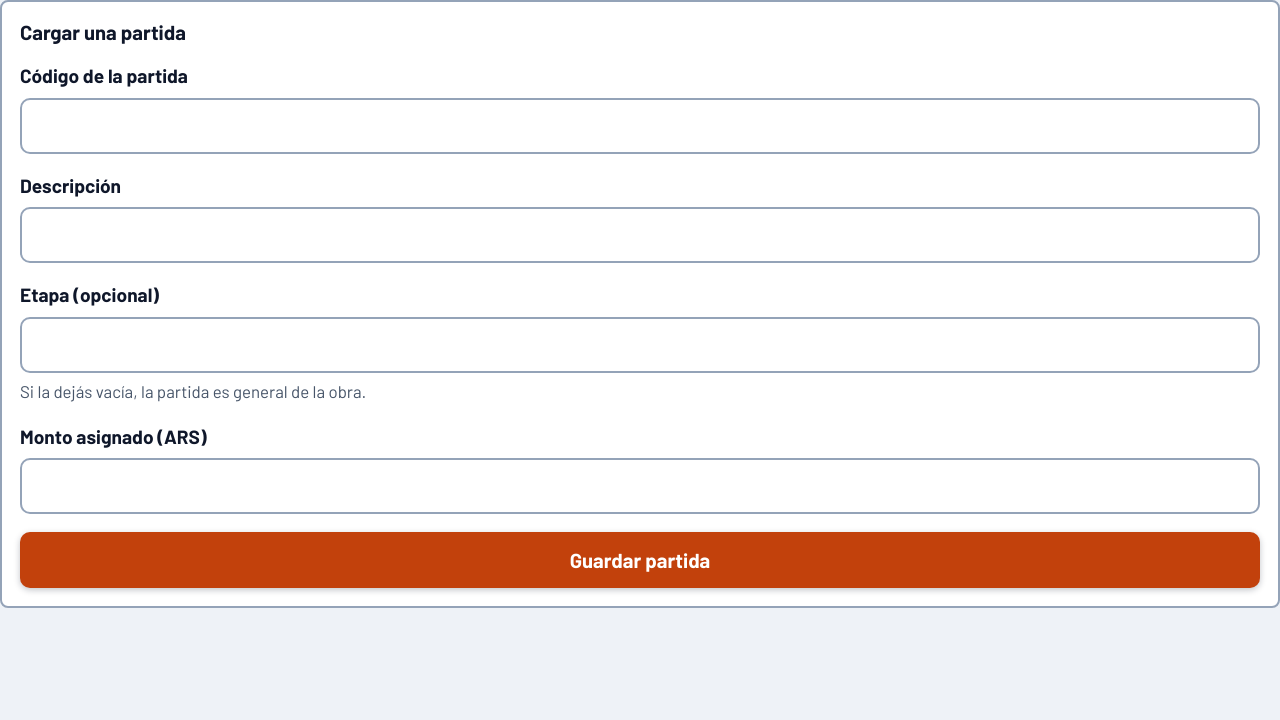
Test: FormularioNuevaPartida › no envía nada y muestra los errores si faltan datos o el monto es inválido
The width and height of the screenshot is (1280, 720).
Type "-5" into the field labelled "Monto asignado (ARS)" at [640, 486], box [20,458,1260,514]
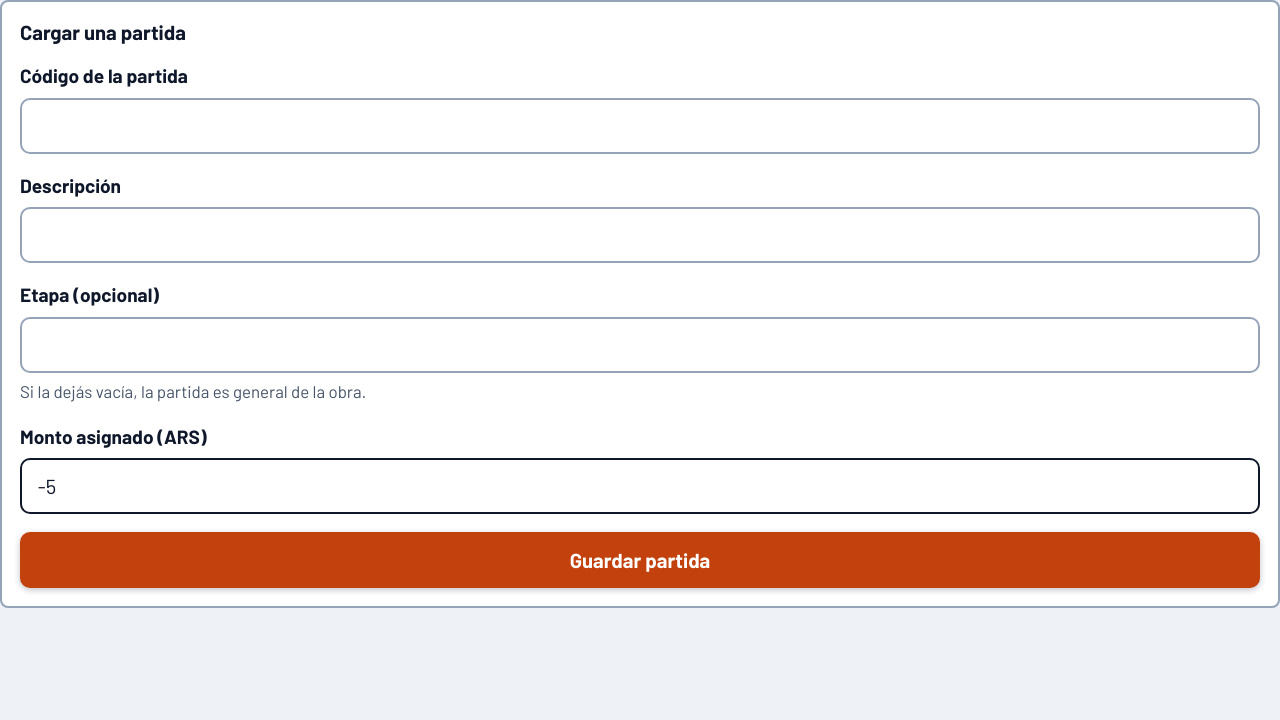
Click the button "Guardar partida" at [640, 560], box [20,532,1260,588]
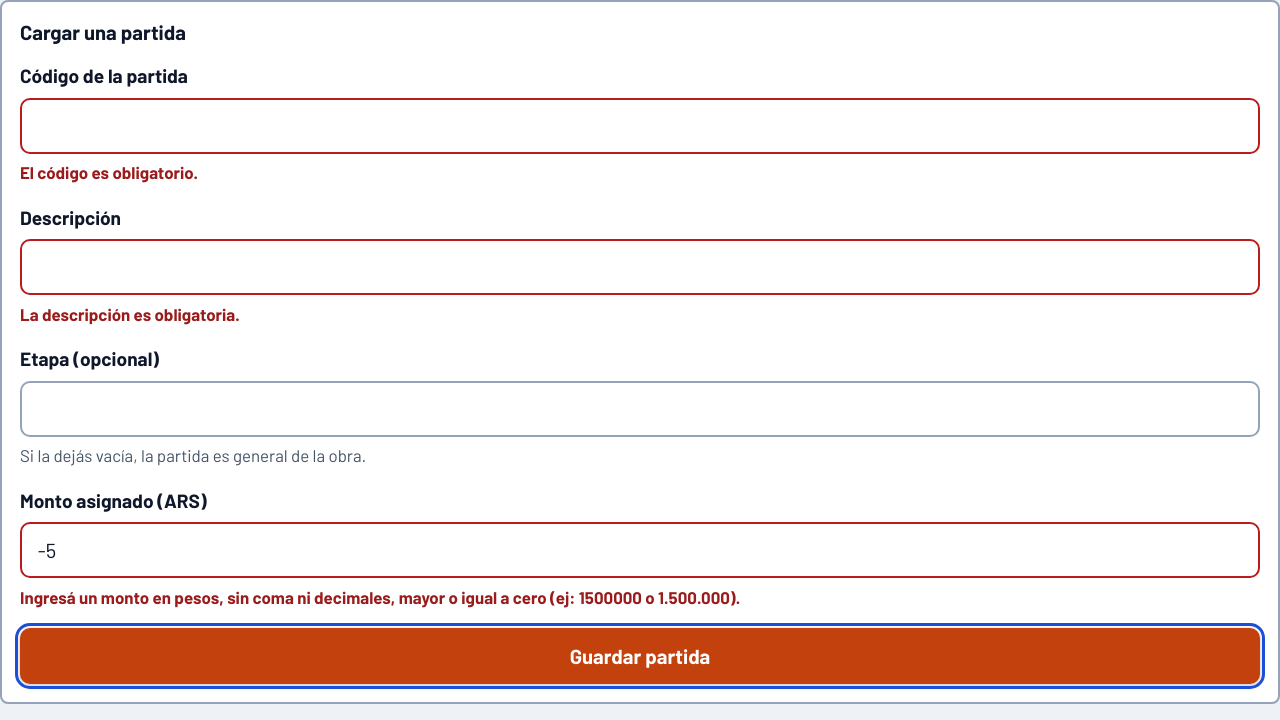
Now the text "El código es obligatorio." is shown, box [20,162,198,182]
Now the text "La descripción es obligatoria." is shown, box [20,304,240,324]
Now the text "Ingresá un monto en pesos" is shown, box [20,587,740,607]
